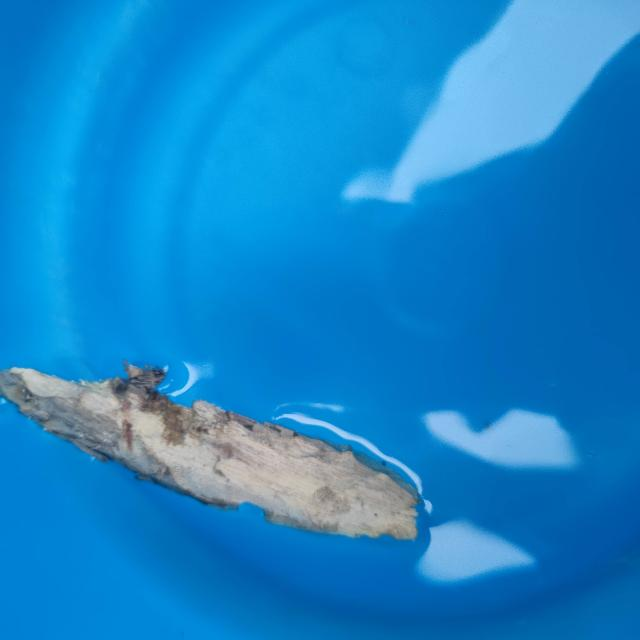litter: (4, 366, 438, 558)
